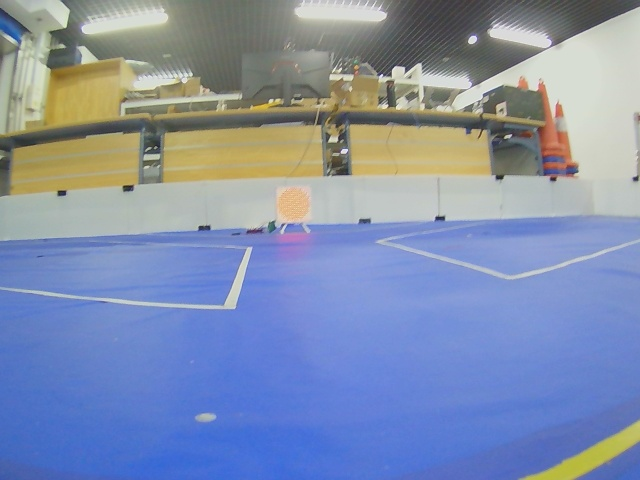red: (276, 186, 311, 224)
